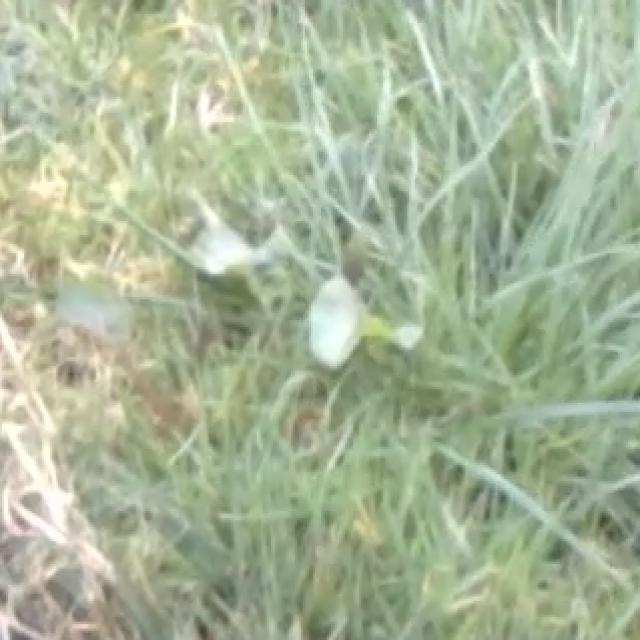organic waste: (65, 179, 491, 439)
